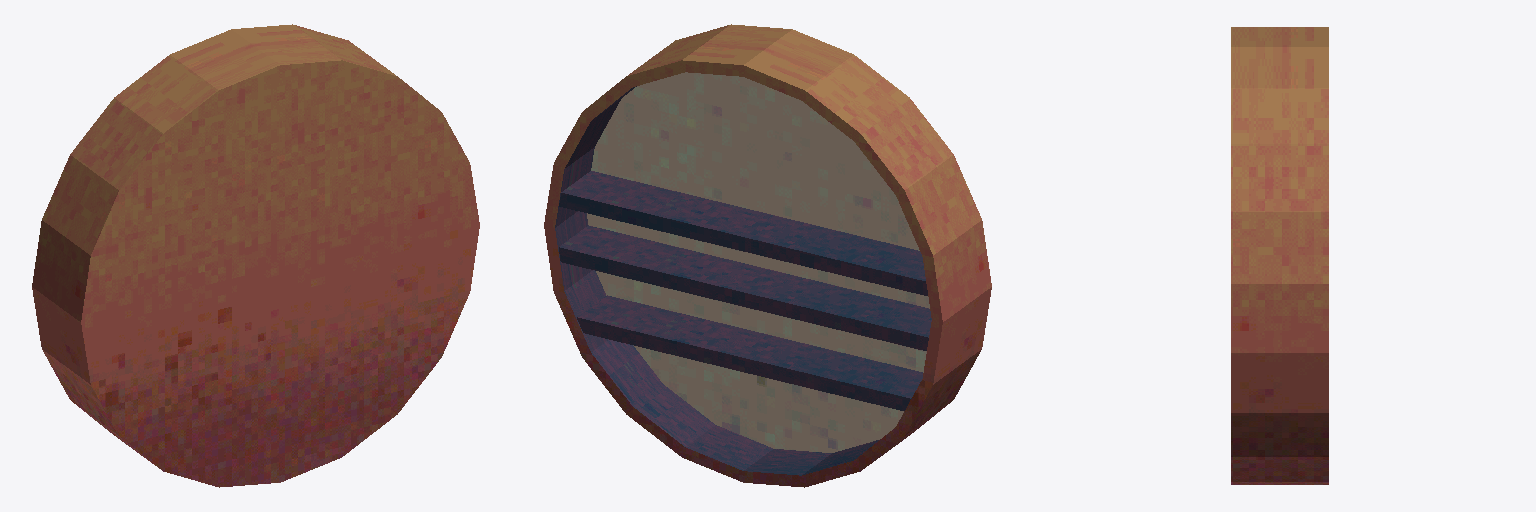
The picture shows the model from 3 angles: view 1: azimuth 30°, elevation 25°; view 2: azimuth 150°, elevation 25°; view 3: azimuth 270°, elevation 25°; orthographic projection.
Parts seen in each view (by area): view 1: pCube26; view 2: pCube26; view 3: pCube26.
Part boxes in pixels (x1,y1,x2,y2): pCube26: (32,24,479,487); pCube26: (544,24,991,487); pCube26: (1231,27,1328,484).
Size of the model in its own units: 16.31 by 16.31 by 3.48.
1 materials, 1 textured.